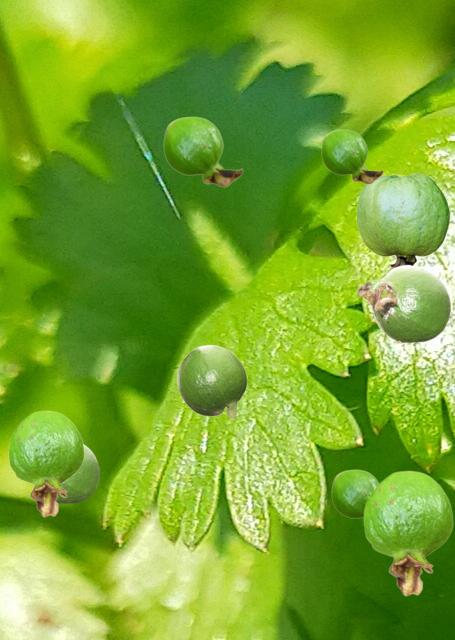guava: (363, 470, 452, 595), (356, 173, 449, 268), (8, 410, 83, 516), (357, 264, 450, 342), (163, 116, 242, 186), (176, 344, 246, 418), (321, 129, 382, 183), (57, 444, 99, 503), (331, 469, 378, 518)
